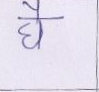ai_matra: (23, 1, 43, 17)
